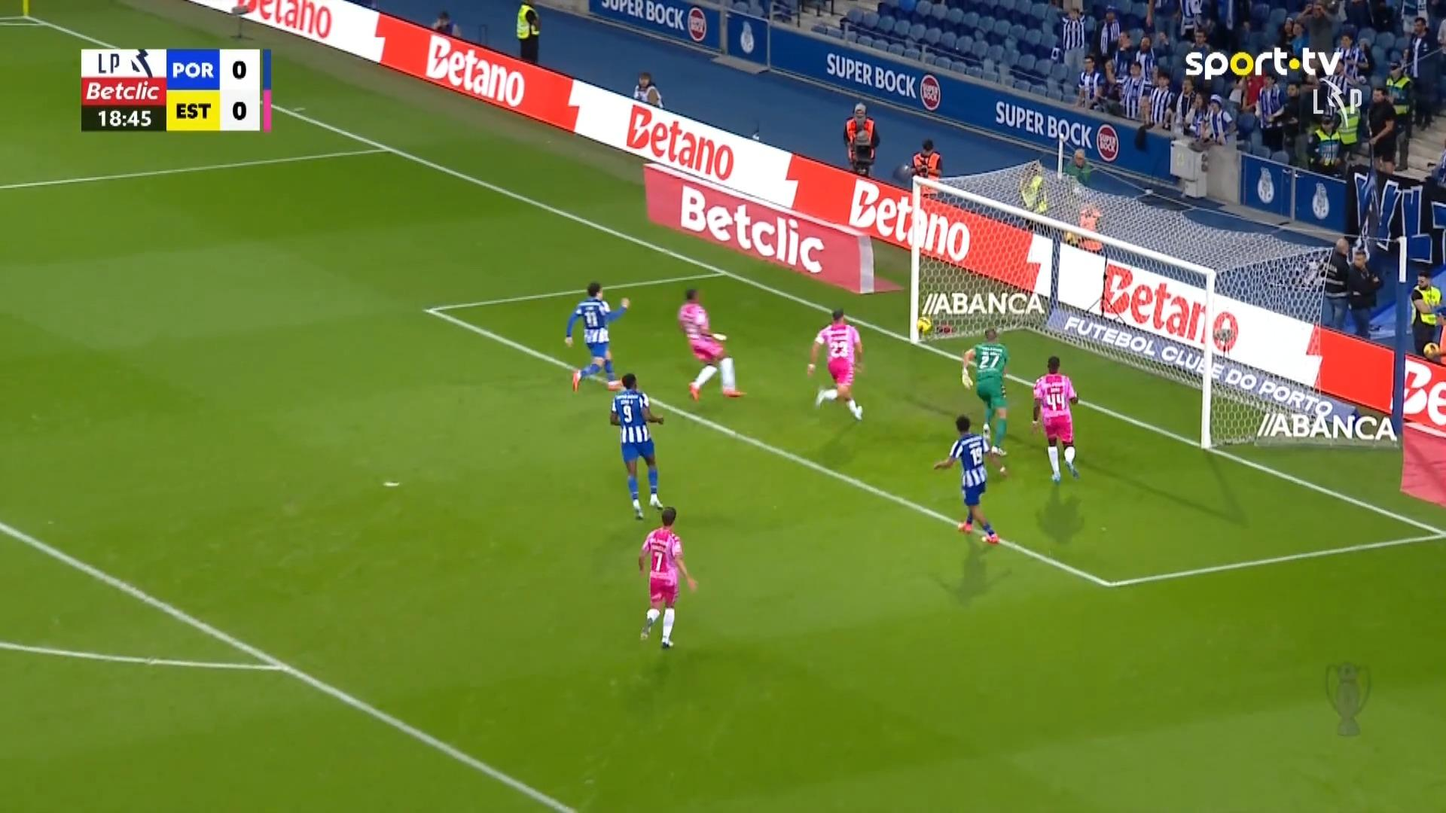ball: (916, 315, 932, 333)
player: (932, 413, 1007, 544), (636, 506, 697, 648), (609, 373, 665, 520), (676, 287, 745, 400), (563, 280, 630, 391), (806, 307, 865, 421), (1030, 355, 1080, 483), (960, 327, 1009, 456)
